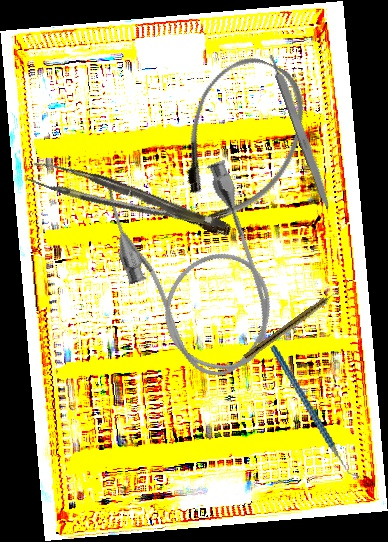Cannula: (95, 145, 294, 395), (152, 43, 324, 251)
Chopper: (270, 333, 363, 492)
Handpiece: (243, 288, 341, 363)
Scalpel Handle: (267, 52, 335, 211)
Tissue Forceps: (25, 149, 227, 253)
